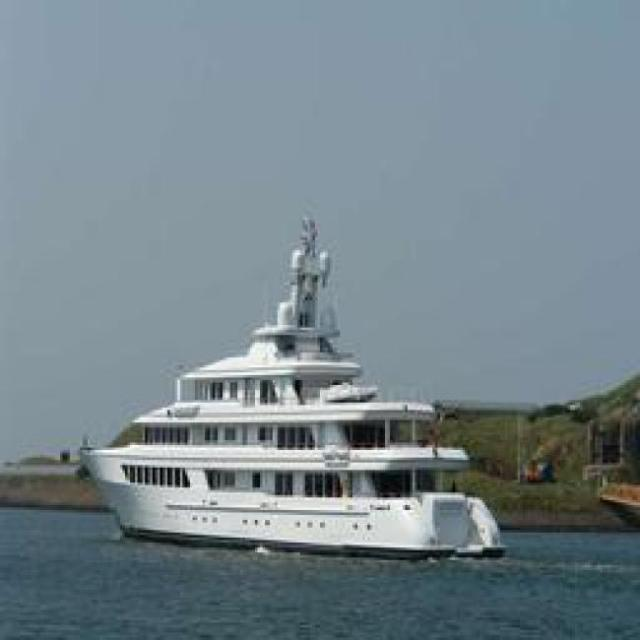boat: (46, 361, 523, 571)
